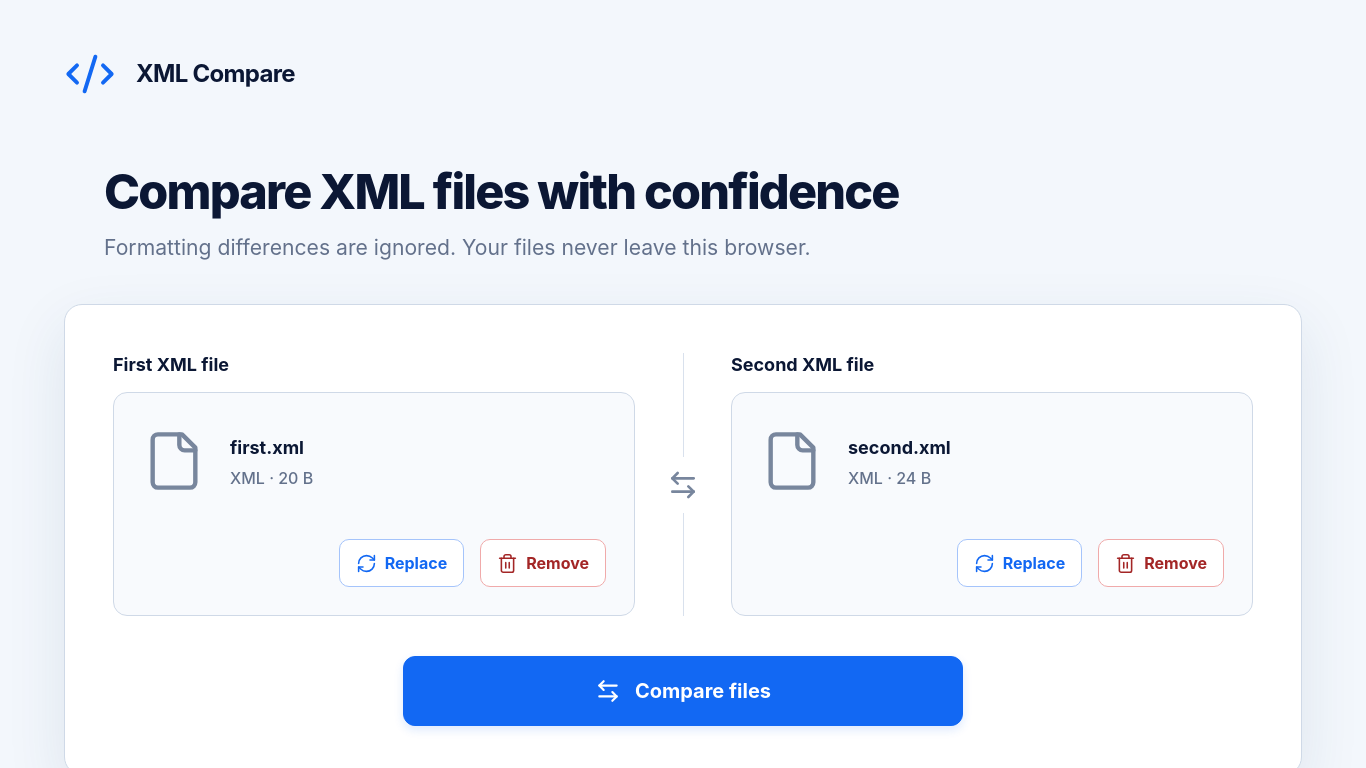
Test: XML comparison workflow › removes a selected file, clears the result, and disables comparison
Earlier steps of the test are not shown.
Click the button "Compare files" at (683, 691), box [403,656,963,726]
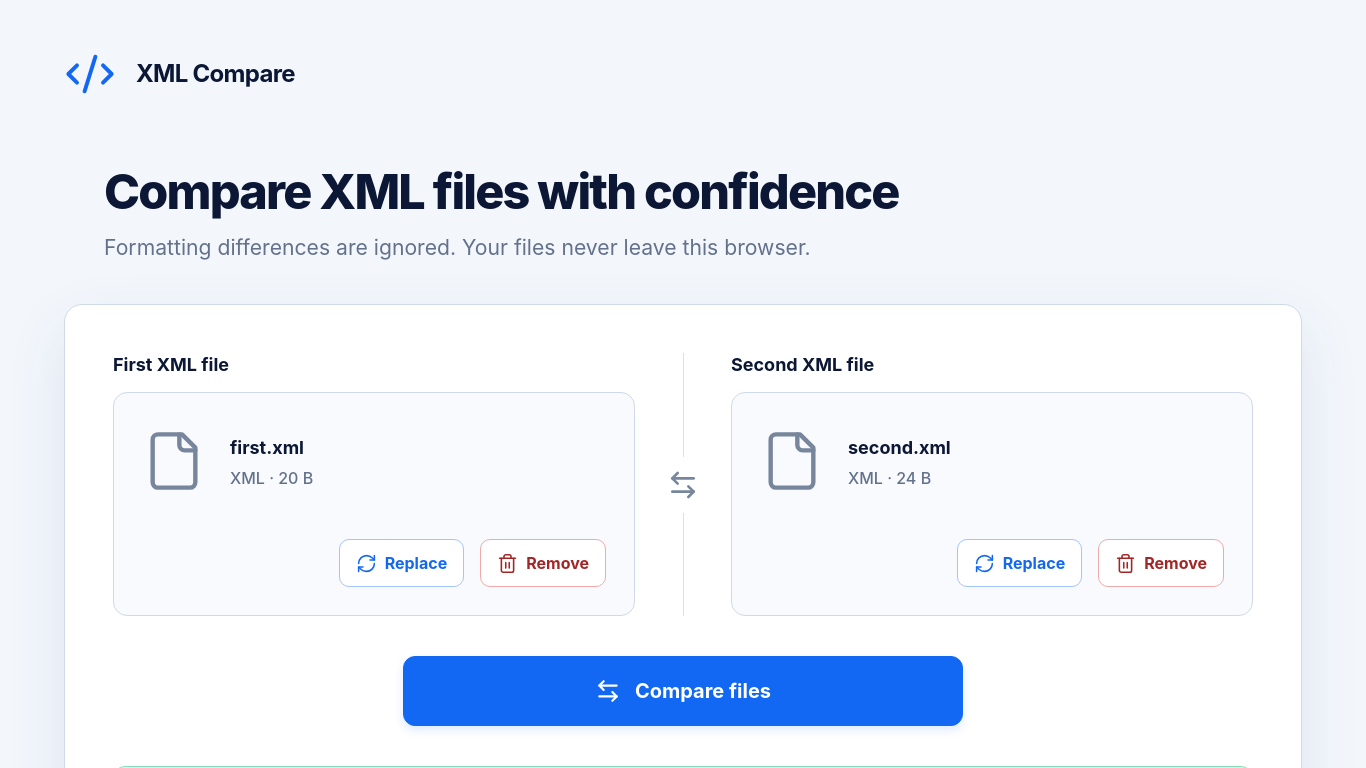
Click the button with aria-label "Remove first XML file" at (543, 563), box [480,539,606,587]
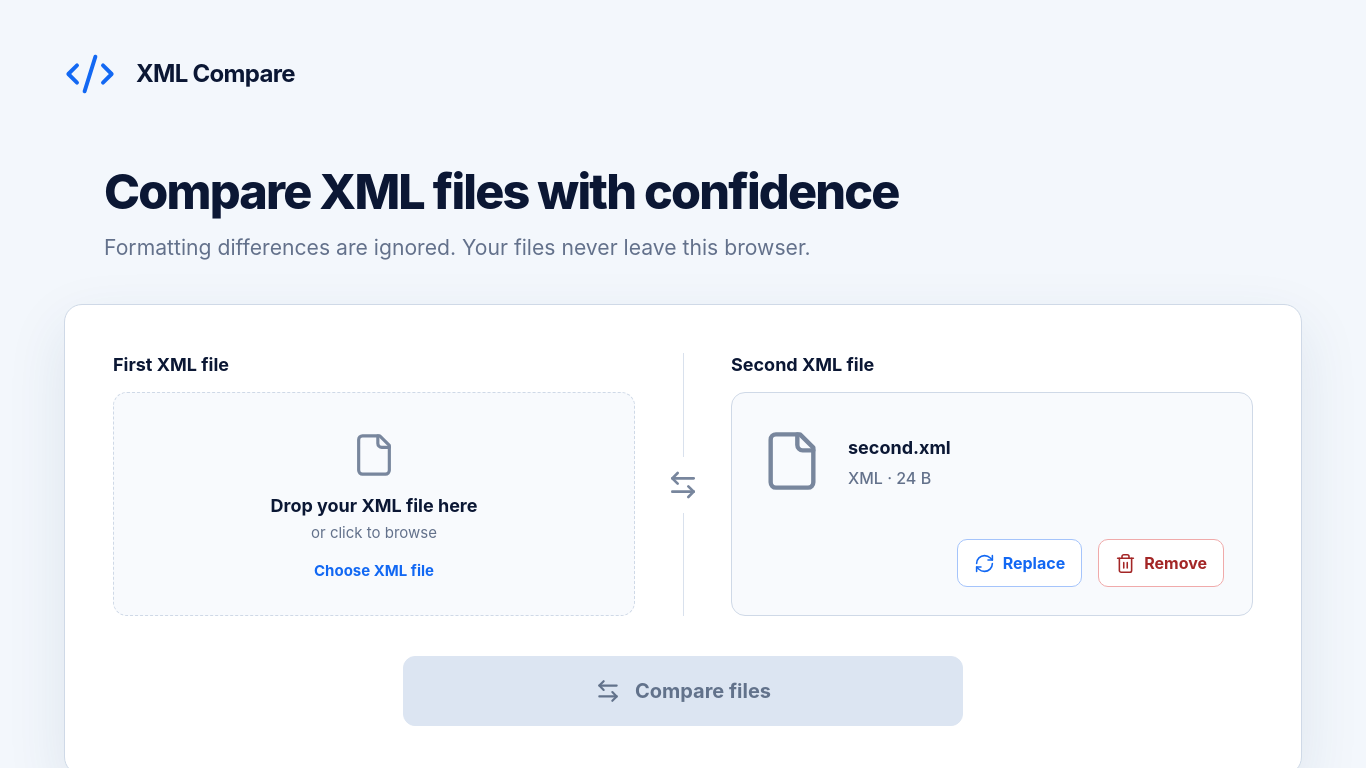
Check: the text "first.xml" is not shown
Check: the button "Compare files" is disabled, box [403,656,963,726]
